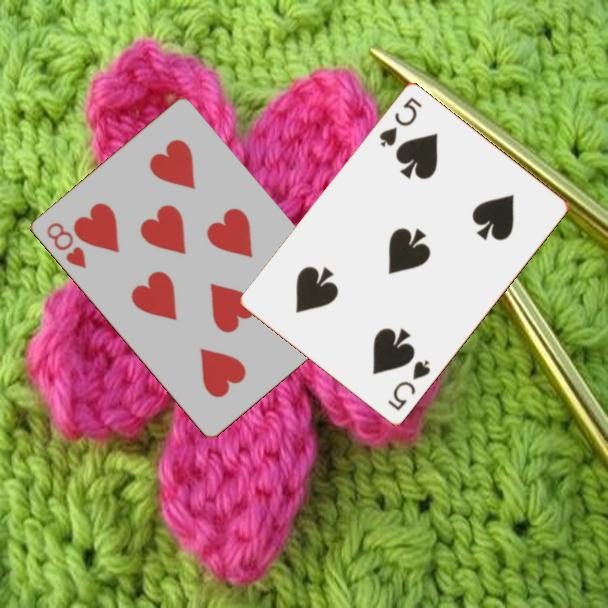h08: (42, 219, 89, 271)
s05: (384, 357, 433, 414), (376, 94, 425, 150)
